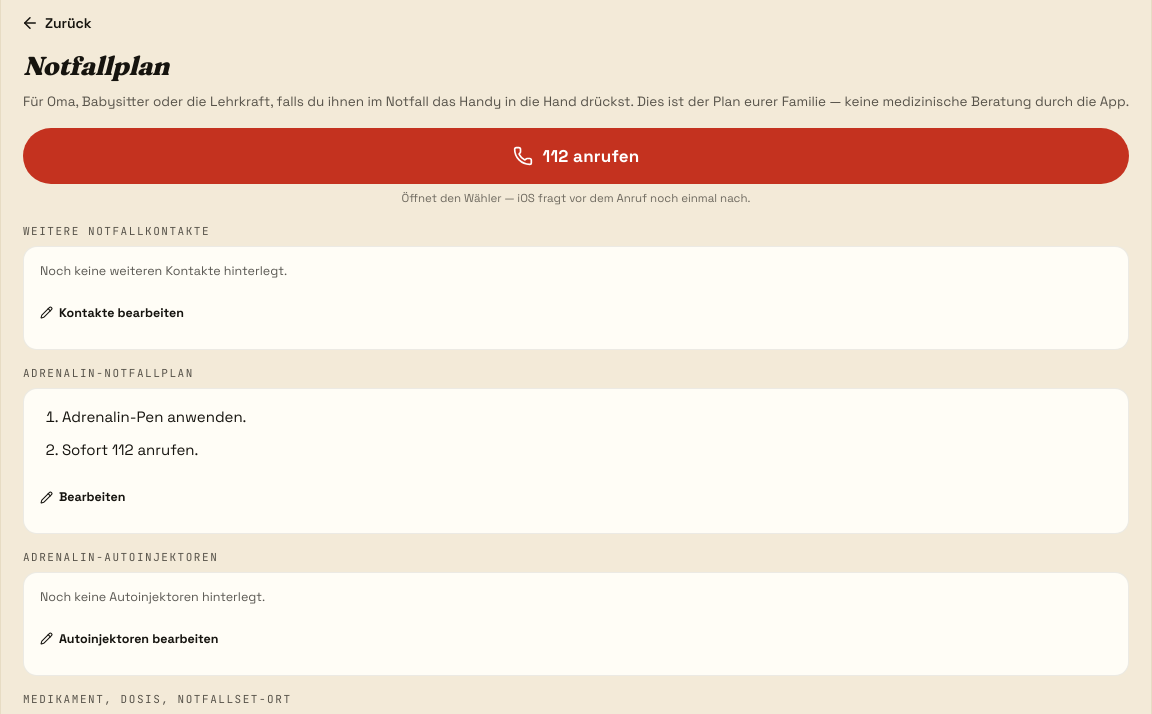
Test: EmergencyScreen (F4) › disables Speichern and warns when every step is removed
Click the button with aria-label "Notfallplan bearbeiten" at (83, 497), box 40,475 -> 126,519
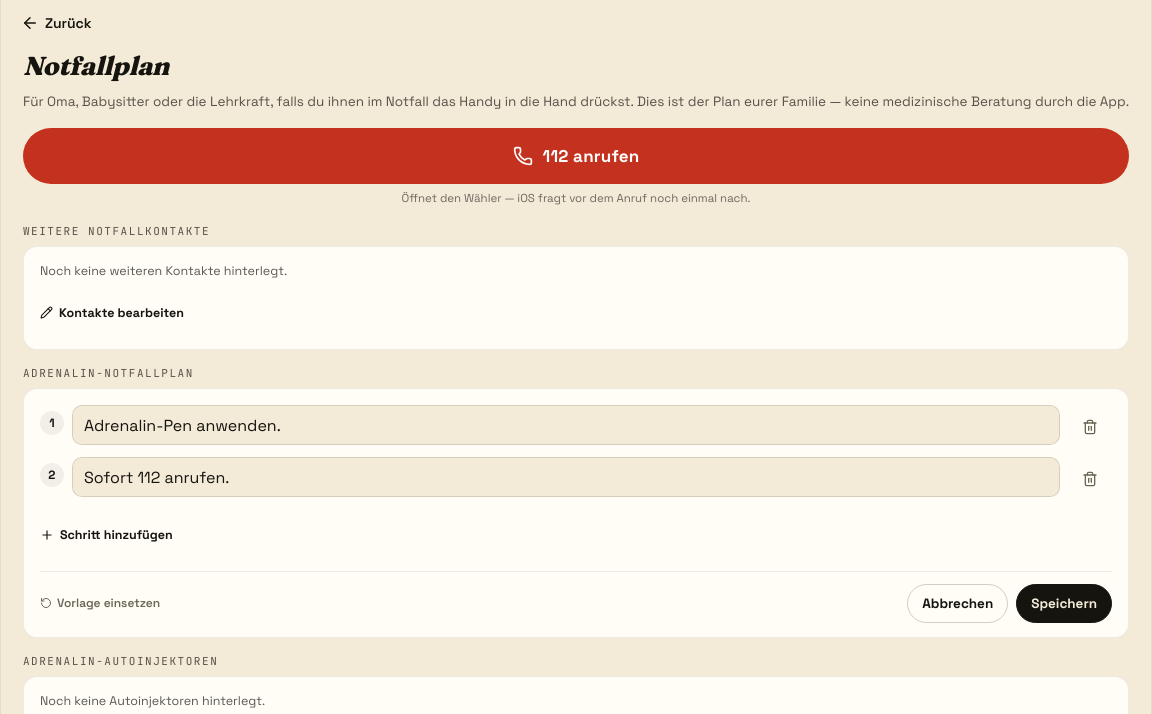
Click the button named "Schritt 1 entfernen" at (1090, 427), box 1068,405 -> 1112,449
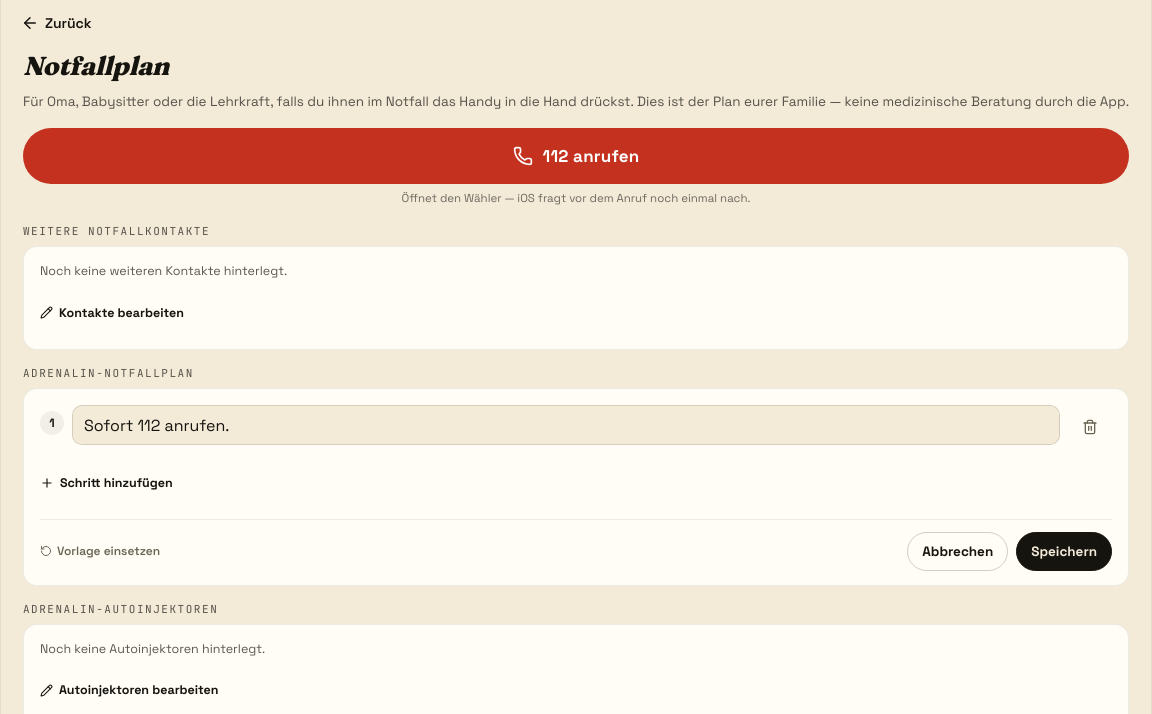
Click the button named "Schritt 1 entfernen" at (1090, 427), box 1068,405 -> 1112,449
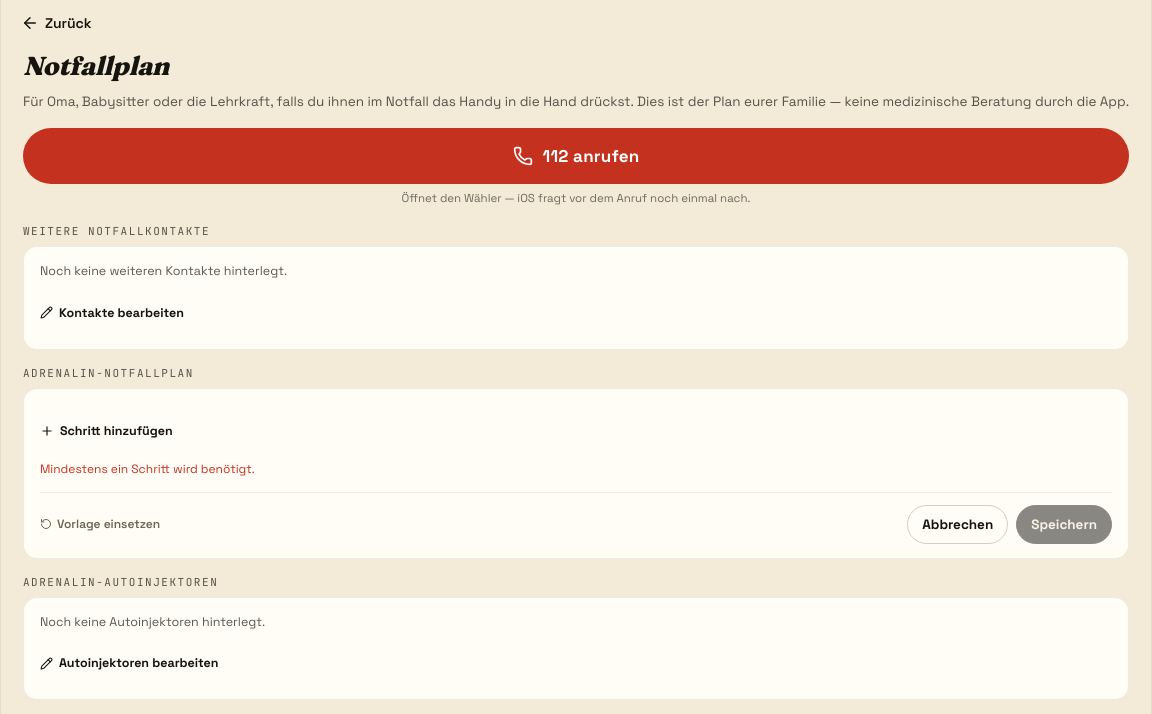
Result: the text "Mindestens ein Schritt wird benötigt." is shown at 40,461 -> 255,477
Result: the button "Speichern" is disabled at 1016,505 -> 1112,544
